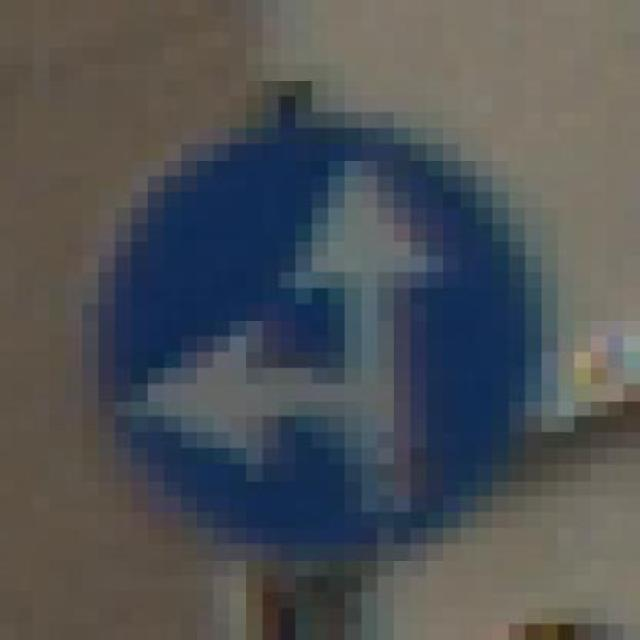Go straight or turn left: (65, 65, 558, 560)
